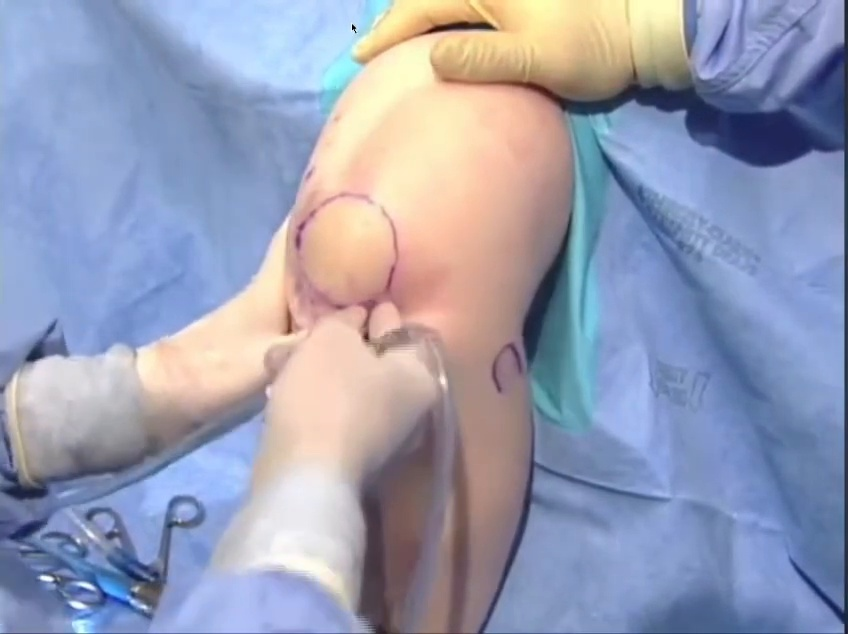arthroscope: (424, 45, 736, 634), (23, 129, 402, 505)
probe: (574, 0, 848, 113), (424, 11, 528, 238)
